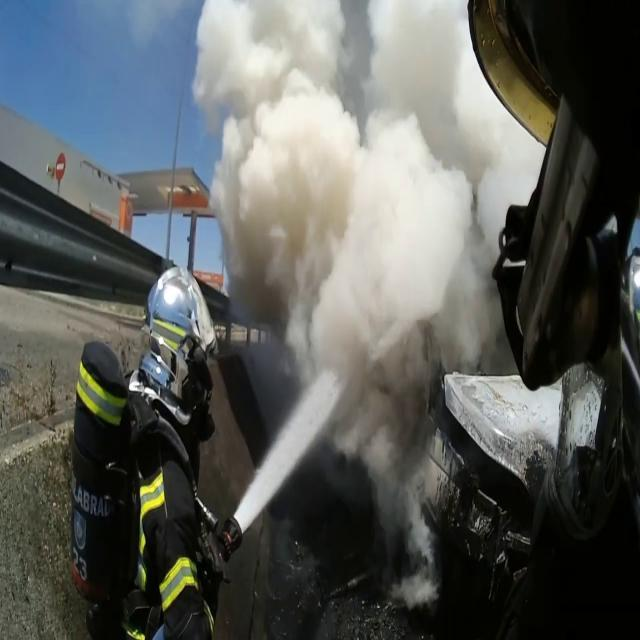Smoke: (188, 0, 502, 539)
